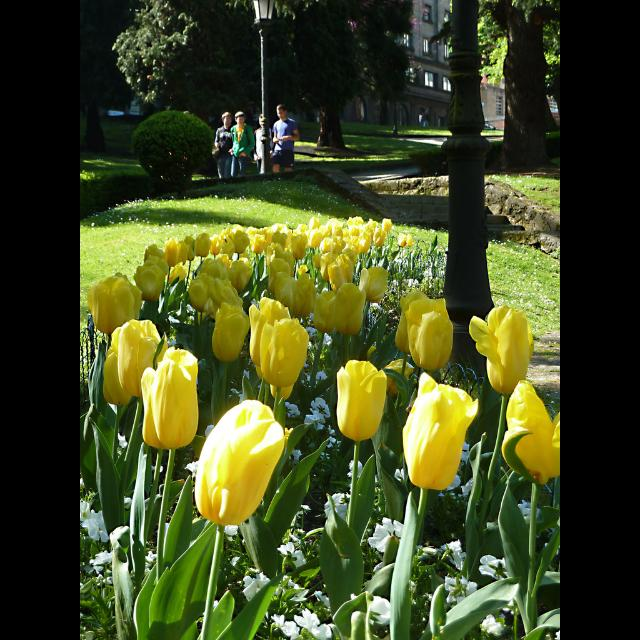Flower: (80, 207, 560, 467), (185, 392, 305, 534)
